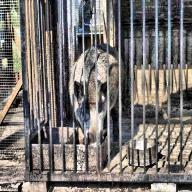boar: (66, 34, 126, 146)
